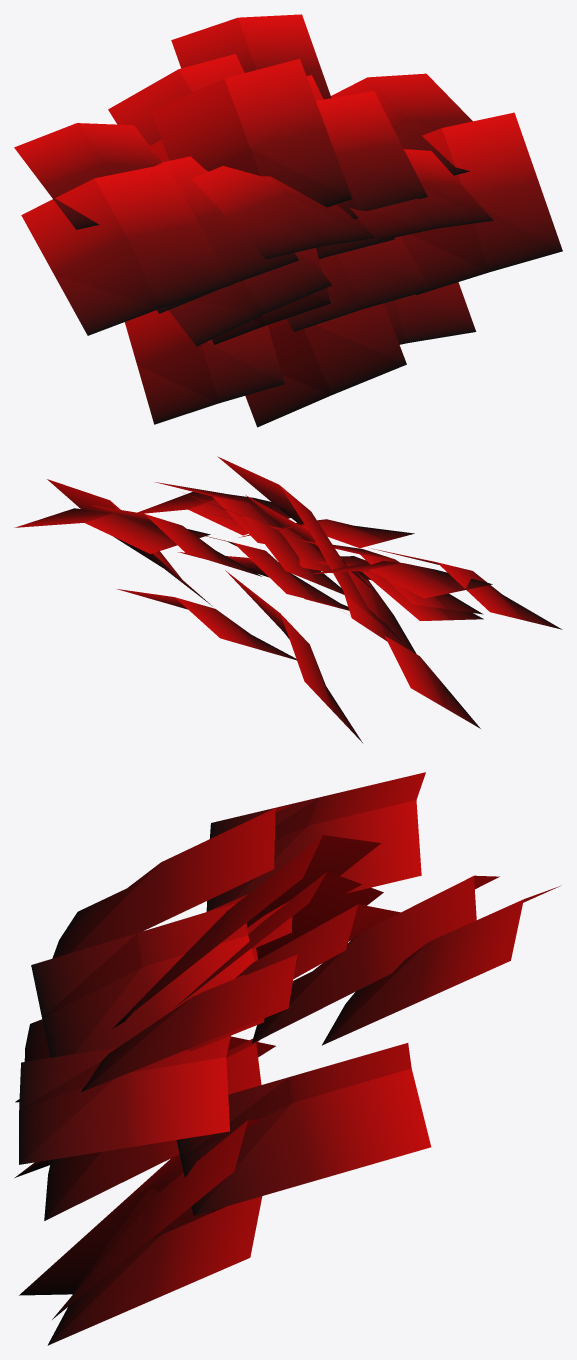
Rendered from IvyAngle01.fbx.
3 renders of one model, top to bottom at view 1: azimuth 30°, elevation 25°; view 2: azimuth 150°, elevation 25°; view 3: azimuth 270°, elevation 25°, orthographic. The views are drawn at different scales.
Parts seen in each view (by area): view 1: transform36; view 2: transform36; view 3: transform36.
Boxes of the visible parts, x1,y1,x2,y2 form: transform36: (14,14,562,427); transform36: (14,456,562,742); transform36: (15,772,561,1345).
Bounding box in the file's own units: 201 × 124 × 123.
